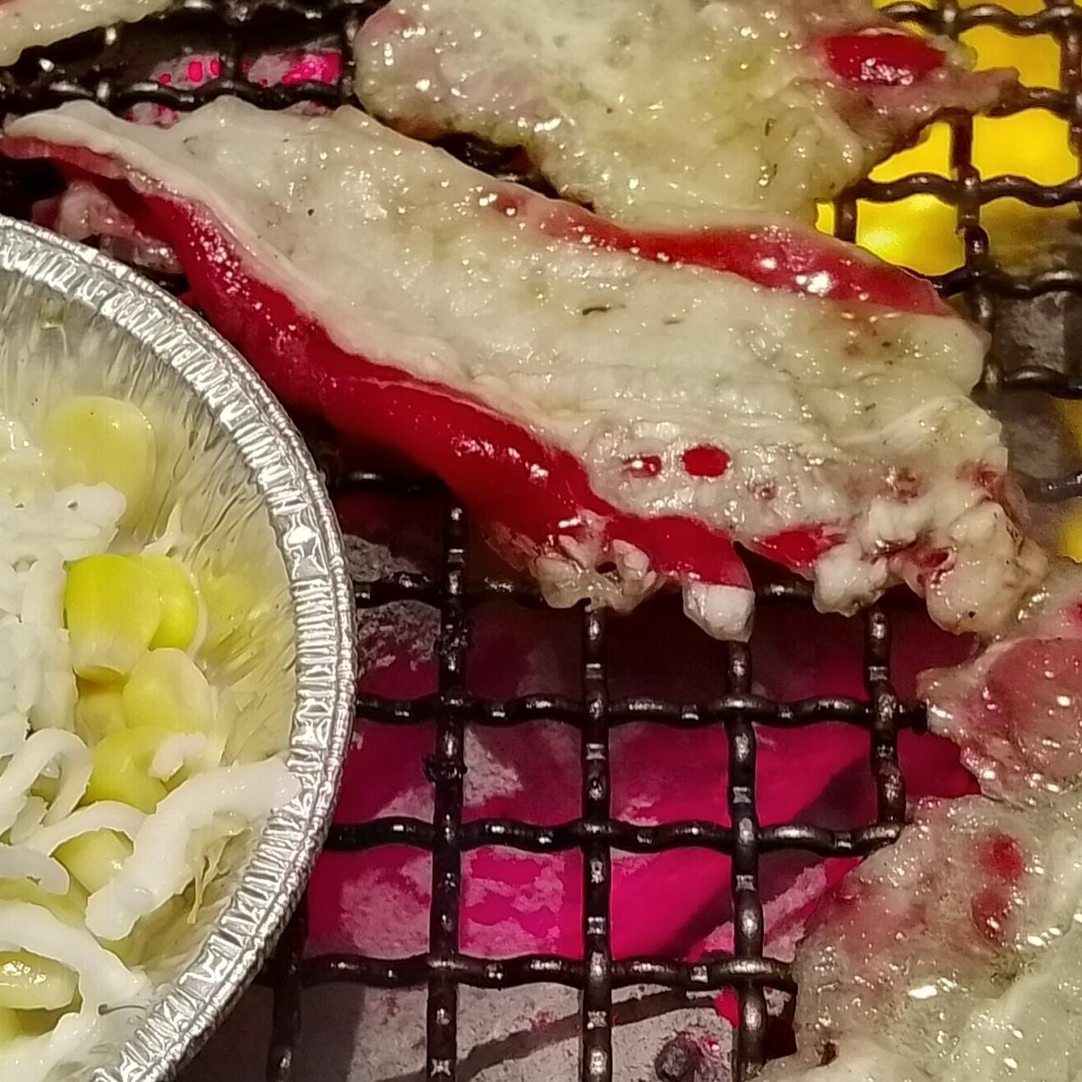Undercooked: (0, 99, 1019, 640), (355, 0, 1016, 229), (794, 561, 1081, 1081)
